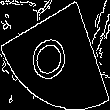O_NE: (30, 25, 80, 86)
